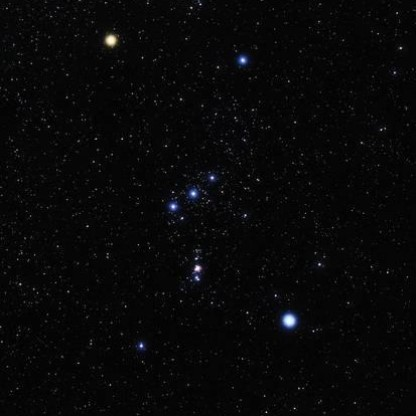Orion: (101, 26, 129, 57), (278, 307, 305, 333), (233, 49, 256, 79), (131, 334, 152, 352), (184, 183, 201, 204), (204, 170, 221, 188), (163, 198, 180, 215)
